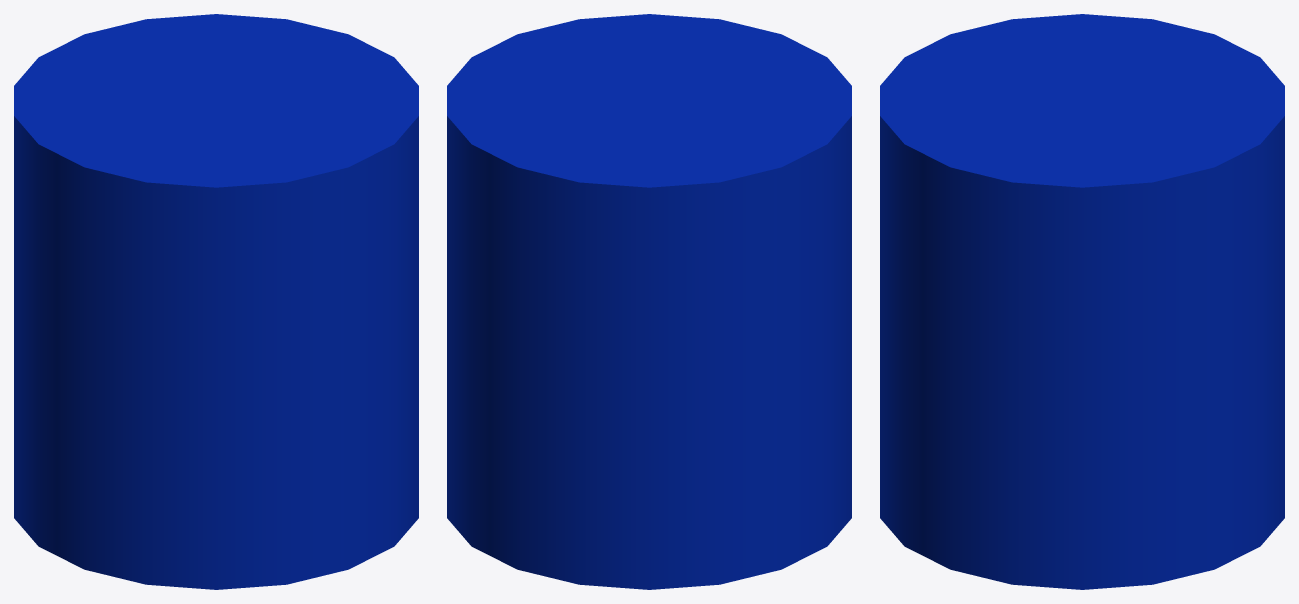
Rendered from Blue.FBX.
3 views of the same model, side by side, from view 1: azimuth 30°, elevation 25°; view 2: azimuth 150°, elevation 25°; view 3: azimuth 270°, elevation 25° (orthographic).
Visible parts, largest first — view 1: Cylinder001; view 2: Cylinder001; view 3: Cylinder001.
Part boxes in pixels (x1,y1,x2,y2): Cylinder001: [14, 14, 418, 589]; Cylinder001: [447, 14, 851, 589]; Cylinder001: [880, 14, 1284, 589].
Size of the model in its own units: 20.84 by 22.5 by 20.52.
